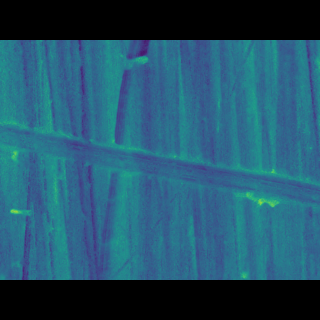Loch: (0, 127, 320, 197), (88, 67, 153, 250)
